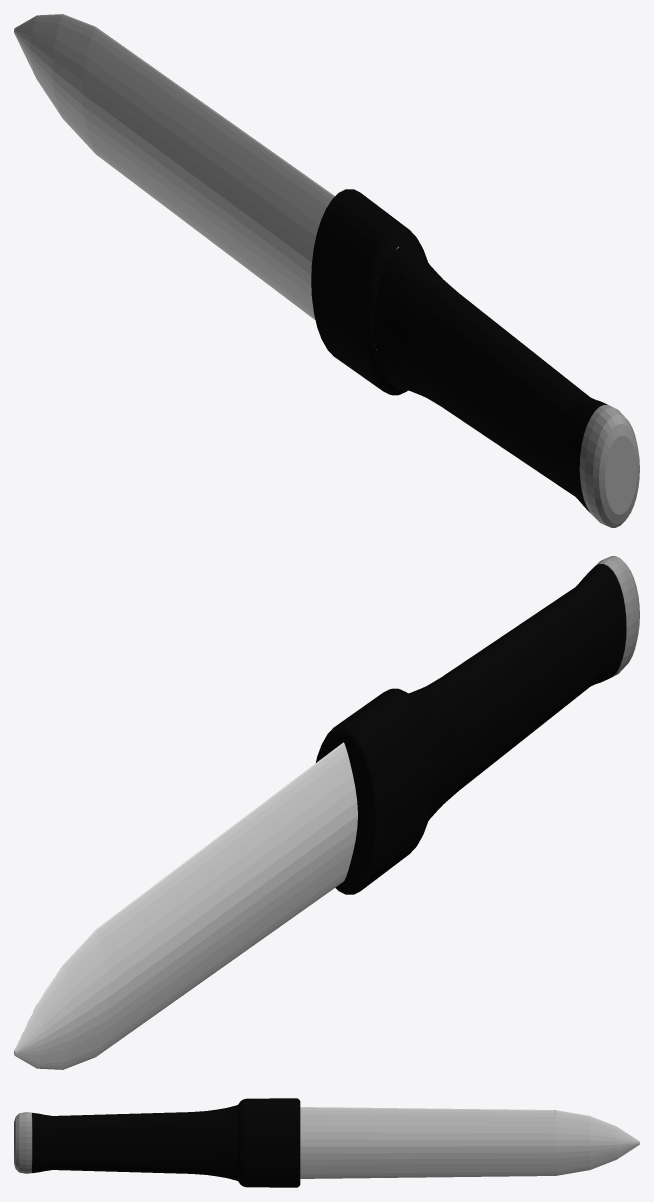
The model's file is SakuyaKnife.fbx.
3 renders of one model, top to bottom at view 1: azimuth 30°, elevation 25°; view 2: azimuth 150°, elevation 25°; view 3: azimuth 270°, elevation 25°, orthographic. The views are drawn at different scales.
Parts seen in each view (by area): view 1: Handle, Edge; view 2: Edge, Handle; view 3: Edge, Handle.
Part boxes in pixels (bbox=[...]): Handle: bbox=[311, 189, 639, 527]; Edge: bbox=[14, 14, 376, 349]; Edge: bbox=[14, 742, 357, 1069]; Handle: bbox=[316, 556, 639, 894]; Edge: bbox=[300, 1107, 639, 1178]; Handle: bbox=[14, 1098, 300, 1187].
Bounding box in the file's own units: 6.49 × 15.17 × 97.88.
2 materials, 2 textured.
